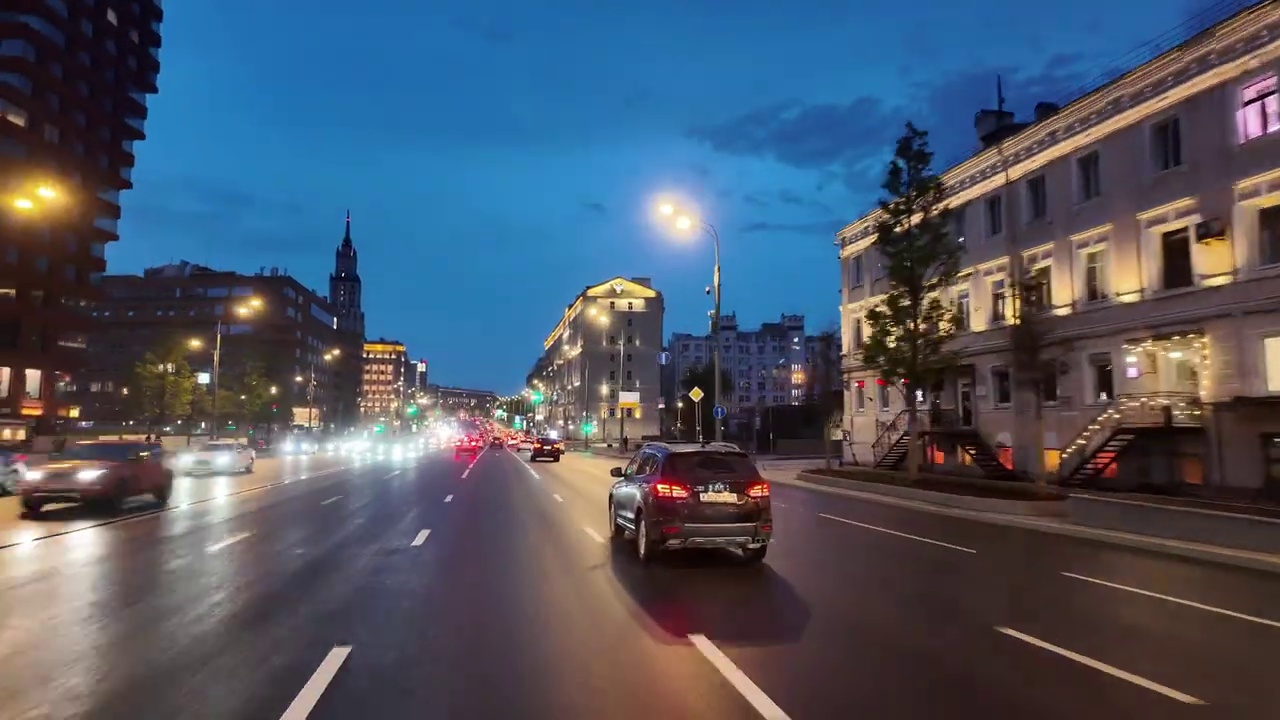acesa: (11, 178, 69, 219), (656, 197, 698, 238), (232, 294, 267, 321)
